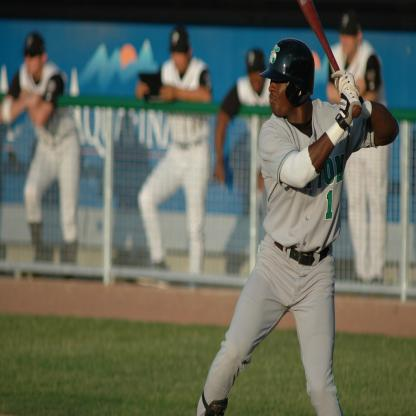Helmet: (264, 35, 322, 113)
